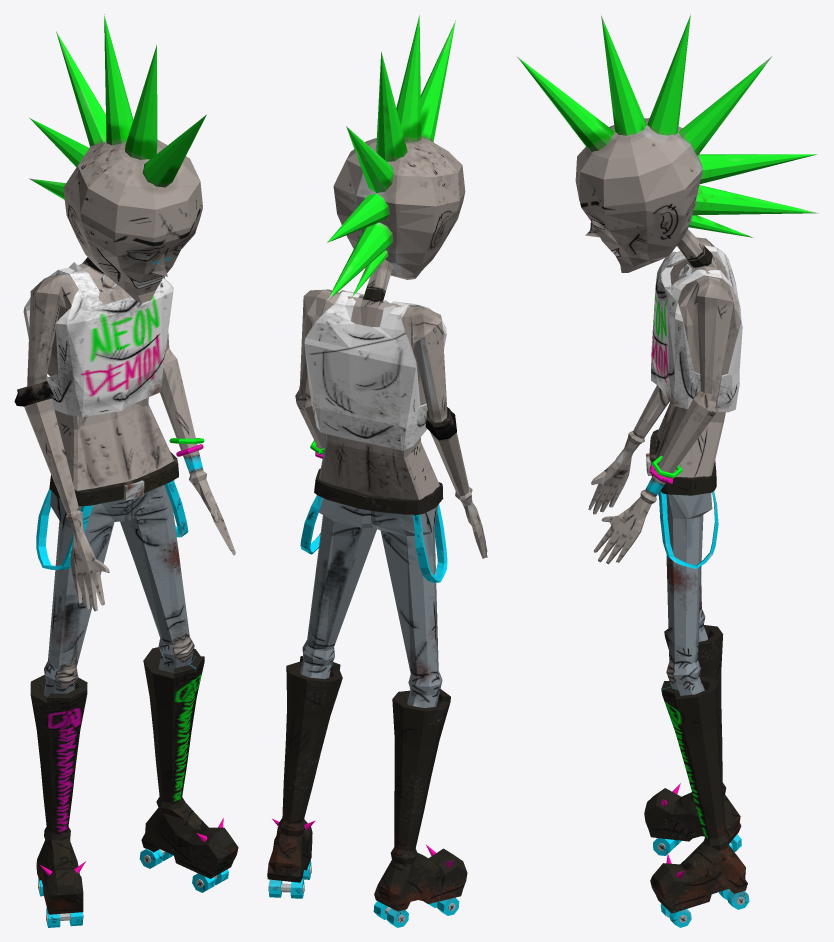
Rendered from punkAnimation_000032.obj.
3 renders of one model, left to right at view 1: azimuth 30°, elevation 25°; view 2: azimuth 150°, elevation 25°; view 3: azimuth 270°, elevation 25°, orthographic. The views are drawn at different scales.
Parts seen in each view (by area): view 1: Cube.004_Cube.003; view 2: Cube.004_Cube.003; view 3: Cube.004_Cube.003.
Boxes of the visible parts, x1,y1,x2,y2 form: Cube.004_Cube.003: (14, 14, 238, 927); Cube.004_Cube.003: (267, 15, 487, 927); Cube.004_Cube.003: (517, 14, 818, 927).
Size of the model in its own units: 1.8 by 7.53 by 2.4.
